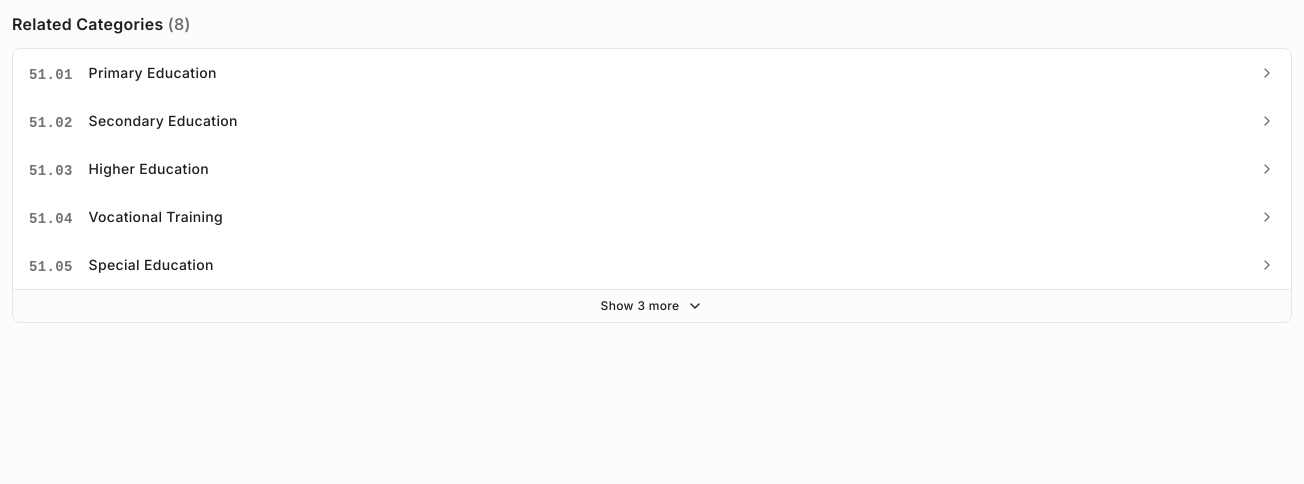
Test: ClassificationSiblings › expand/collapse functionality › expands to show all siblings when button clicked
Click the button. click: point(652, 306)
box: [13,290,1291,322]
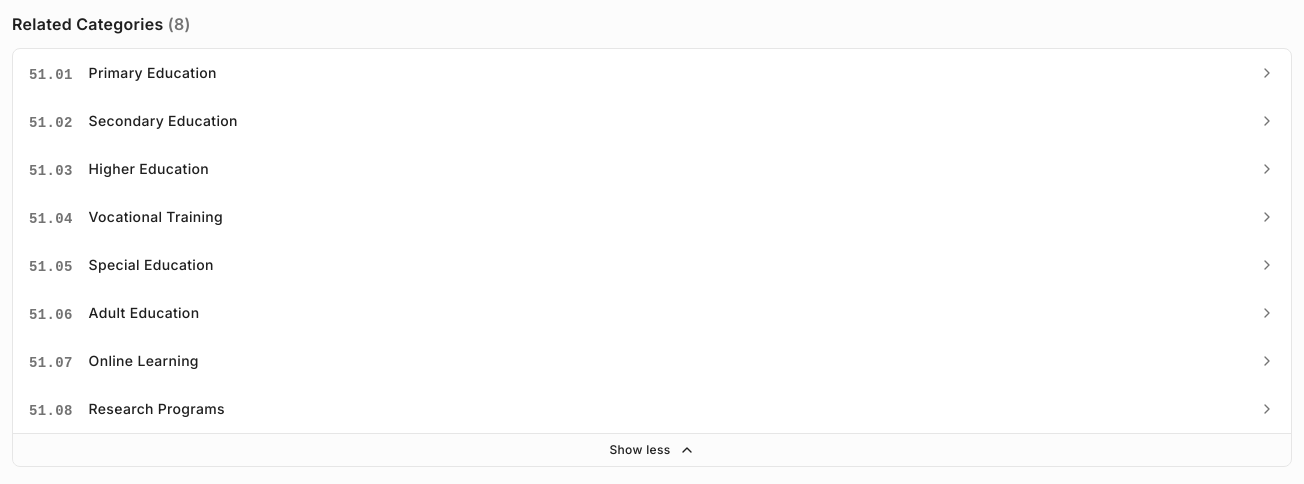
Result: the number of links with test id "sibling-link" is 8
